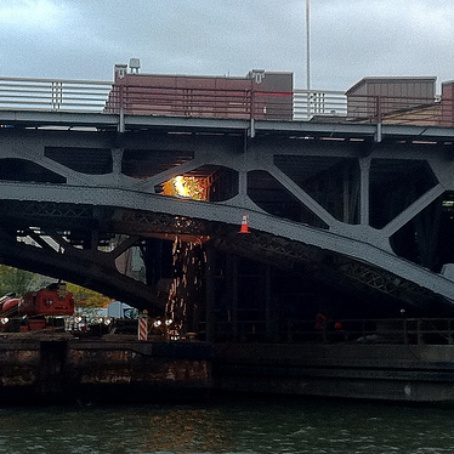bridge: (1, 11, 440, 328)
river: (1, 386, 454, 454)
sky: (11, 1, 454, 70)
